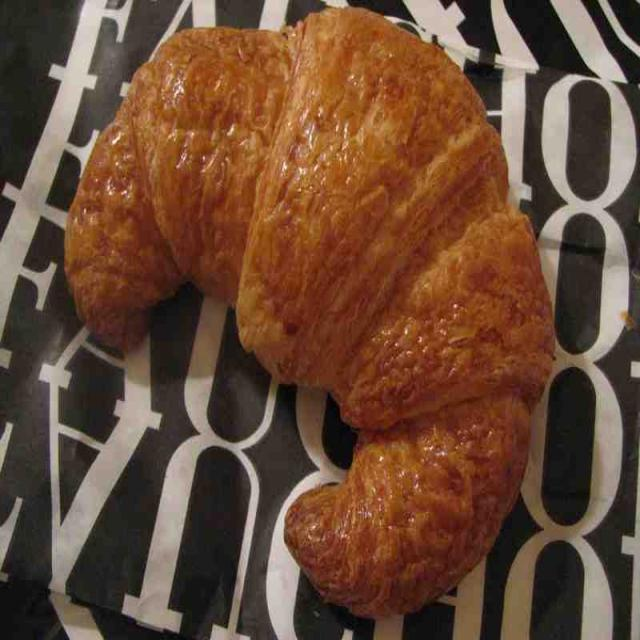Croissant: (58, 0, 562, 626)
